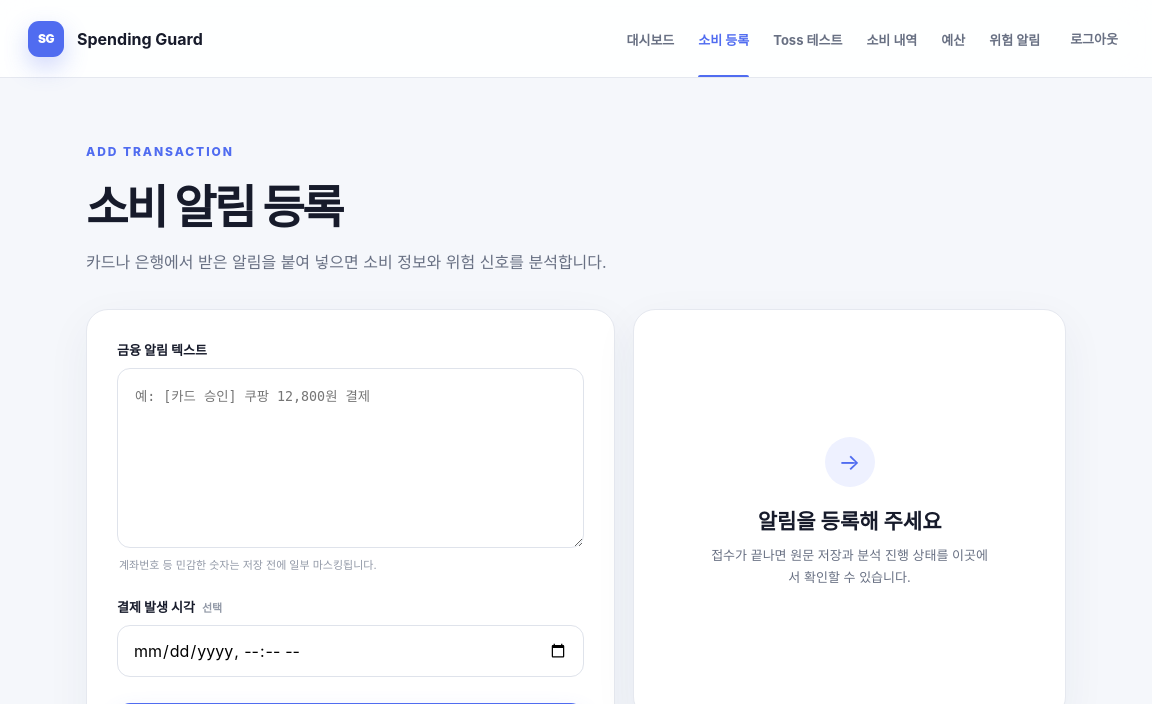
SpendEventSubmissionView › keeps an accepted event visible when status lookup fails
The image size is (1152, 704).
Step 1. Type "택시 20,000원" into the text box labelled "금융 알림 텍스트" → coordinates (351, 458), box [117,368,584,548]
(page scrolled)
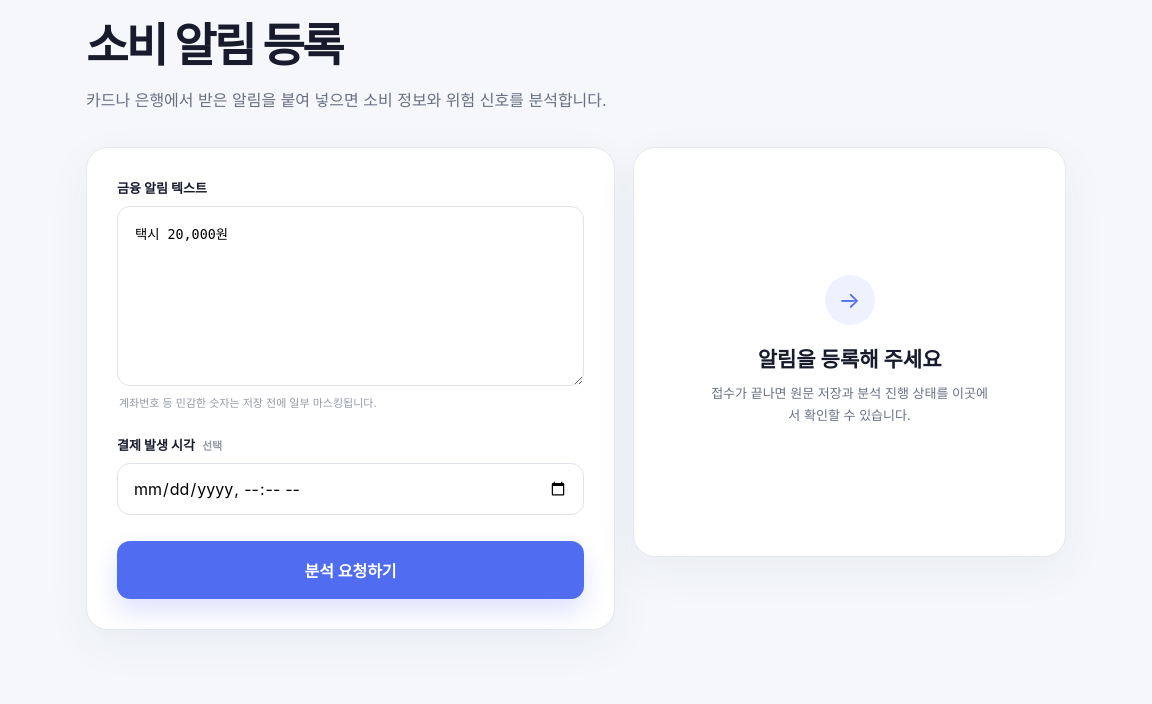
Step 2. Submit the form "분석 요청하기", box [86,147,615,630]
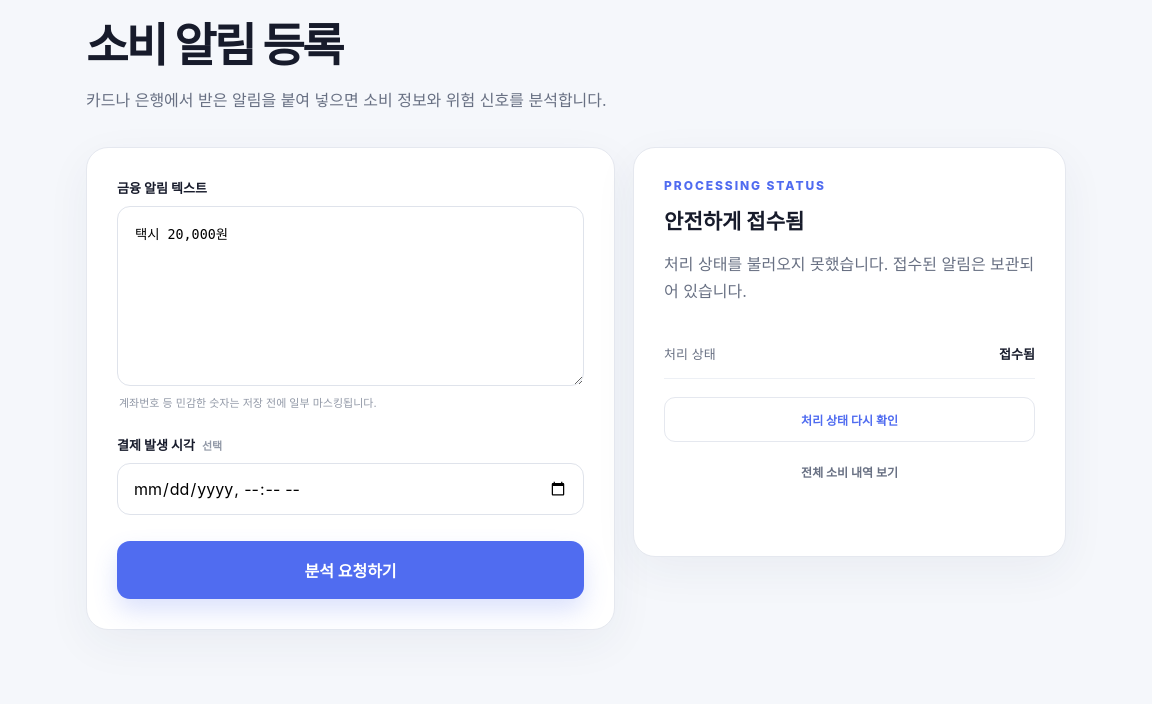
Now the heading "안전하게 접수됨" is shown, box [664,209,804,234]
Now the text "처리 상태를 불러오지 못했습니다. 접수된 알림은 보관되어 있습니다." is shown, box [664,251,1035,304]
